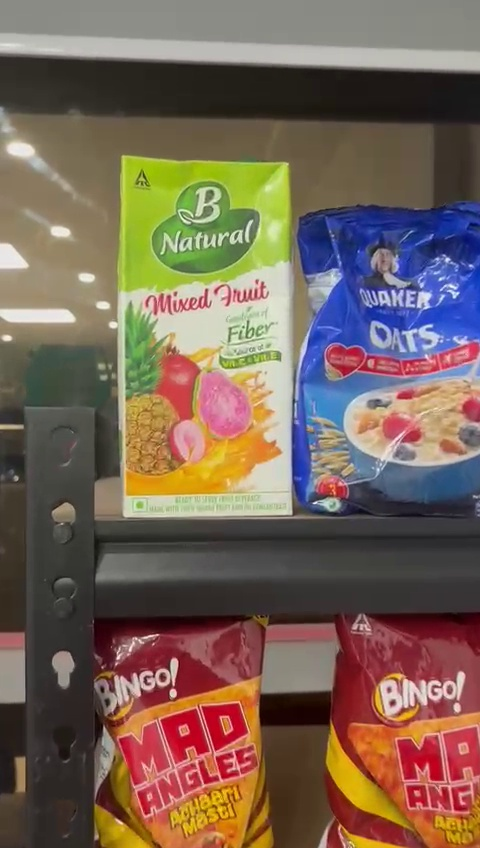Mixed Fruit: (120, 158, 296, 515)
Quaker Oats: (296, 210, 480, 518)
